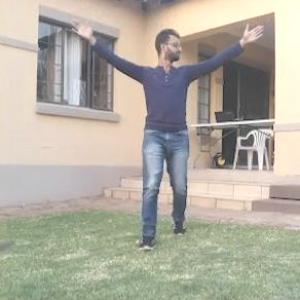takeoff: (71, 18, 260, 225)
